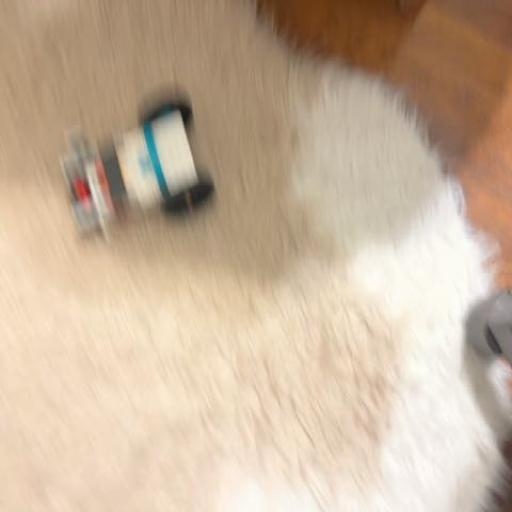Opponent: (54, 84, 220, 248)
